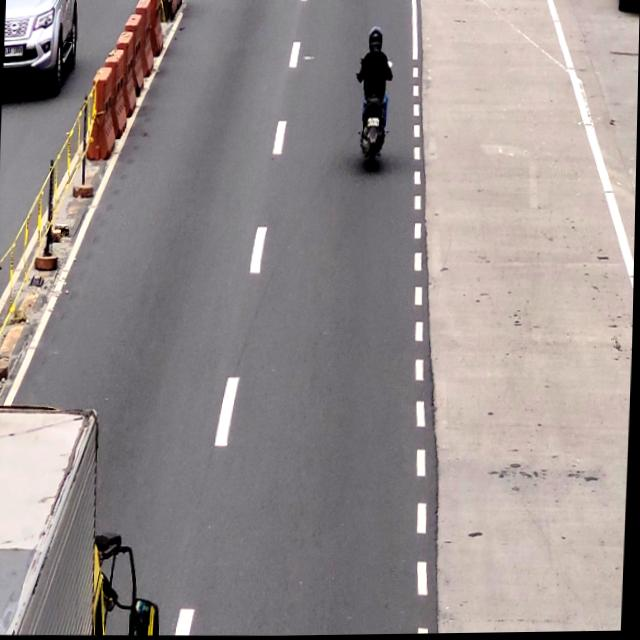Motorcycle: (355, 27, 398, 172)
Truck: (0, 402, 141, 637)
